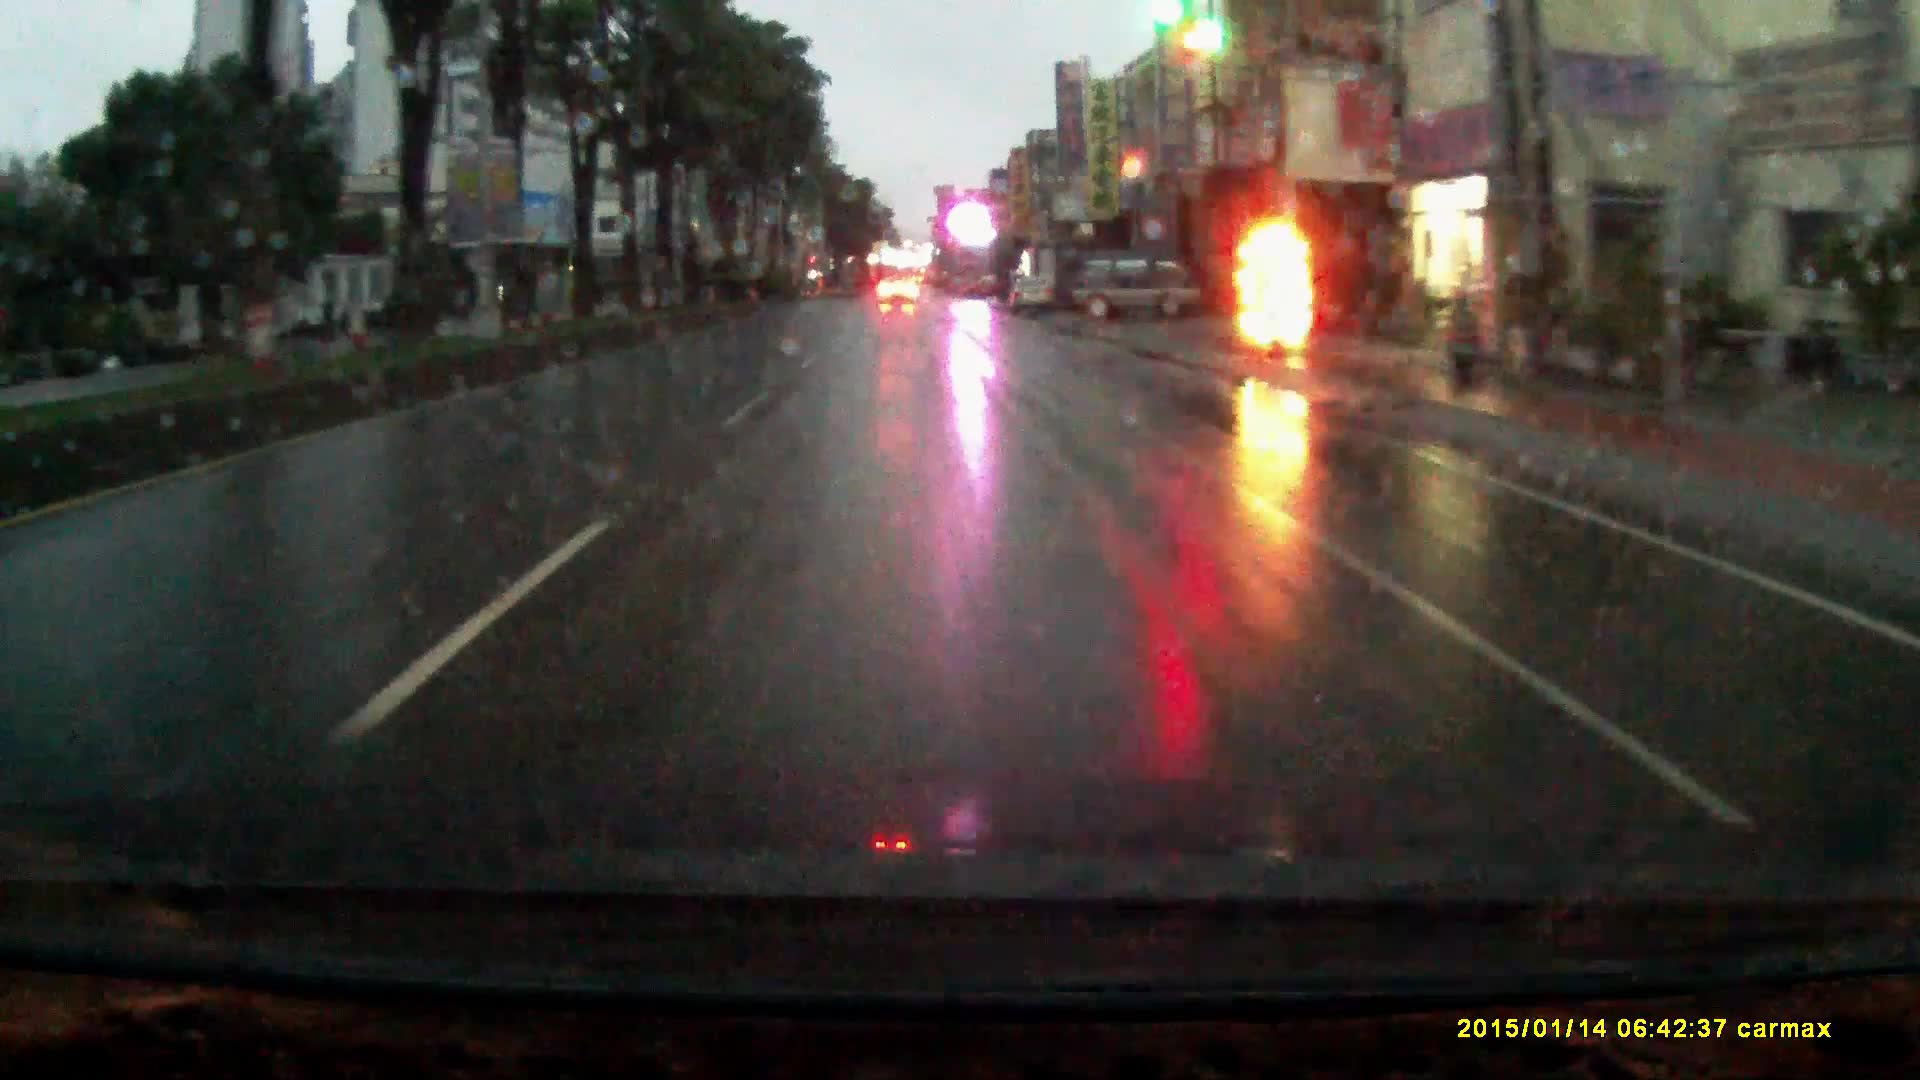vehicle: (1065, 247, 1209, 324), (1018, 245, 1084, 323), (1007, 277, 1060, 319), (878, 281, 920, 313)
